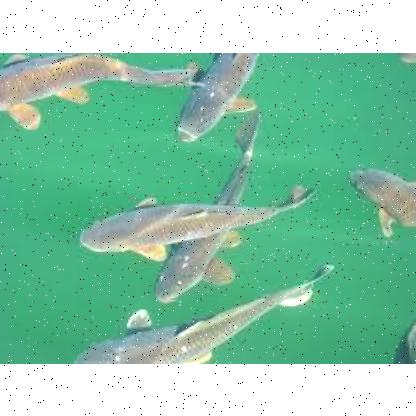ikan-mas: (150, 111, 266, 303), (71, 285, 331, 363), (71, 183, 315, 257), (343, 156, 415, 236)
